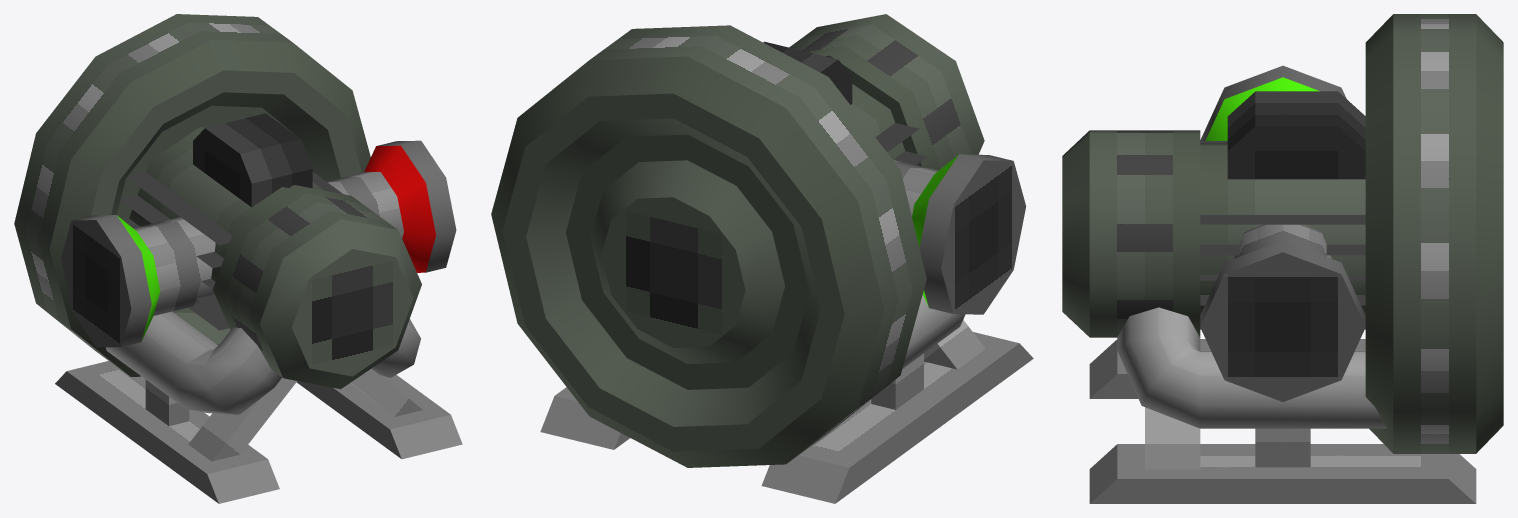
Rendered from fluid_pump.obj.
3 renders of one model, left to right at view 1: azimuth 30°, elevation 25°; view 2: azimuth 150°, elevation 25°; view 3: azimuth 270°, elevation 25°, orthographic. The views are drawn at different scales.
Parts seen in each view (by area): view 1: Cylinder; view 2: Cylinder; view 3: Cylinder.
Part boxes in pixels (box(x1,y1,x2,y2)): Cylinder: box(14, 14, 462, 503); Cylinder: box(491, 14, 1033, 503); Cylinder: box(1062, 14, 1503, 503).
Bounding box in the file's own units: 1 × 1 × 1.
